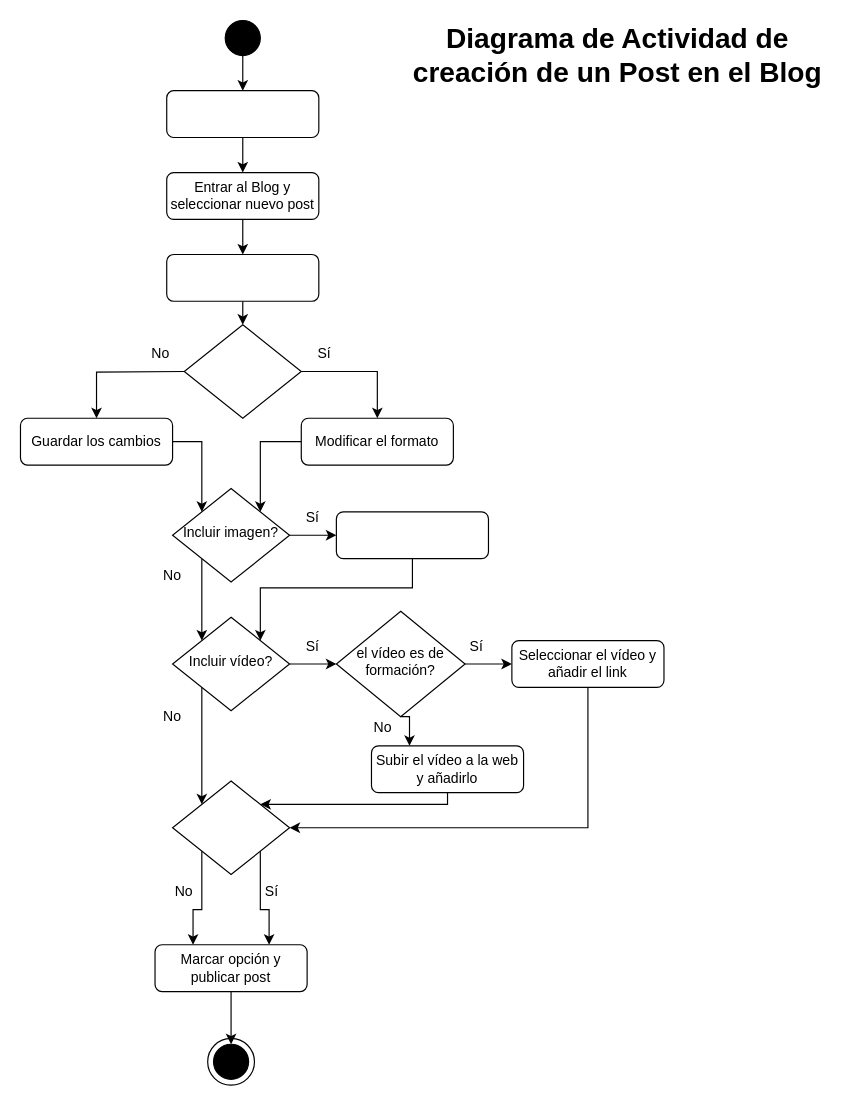
Some shapes in this 841 by 1106 pixel diagram are drawn without their labels. Each missing label, with the box of its shape:
Escribir el texto plano: (166, 253, 319, 301)
Iniciar sesión con rango de editor o superior: (166, 90, 319, 137)
modificar formato de texto?: (183, 324, 301, 418)
Permitir comentarios en el post?: (171, 780, 290, 875)
Subir la imagen a la web y añadirla: (335, 511, 488, 559)
